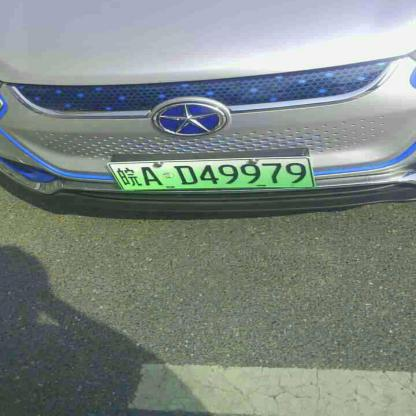lp: (107, 157, 314, 190)
